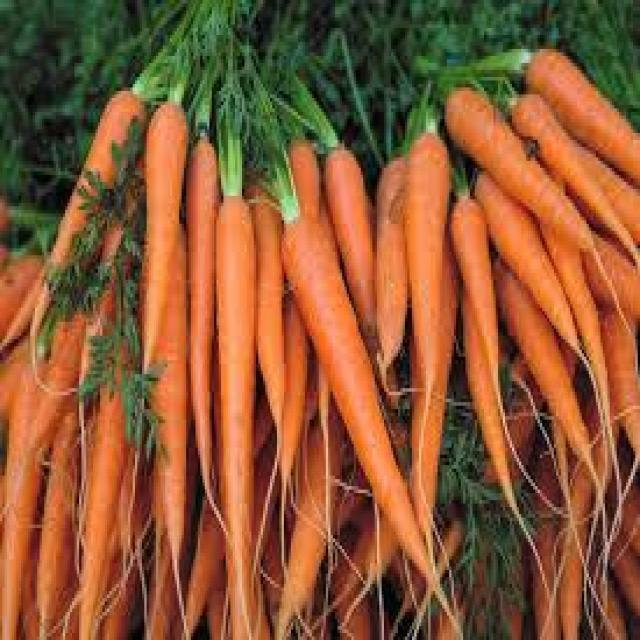Carrot: (270, 190, 440, 588), (28, 87, 150, 327), (435, 65, 588, 255), (483, 264, 597, 466), (208, 190, 258, 620), (463, 172, 583, 343), (72, 371, 148, 632), (398, 114, 460, 385), (317, 133, 392, 350), (179, 132, 218, 524), (240, 173, 293, 433), (448, 194, 504, 376), (144, 98, 174, 374)
